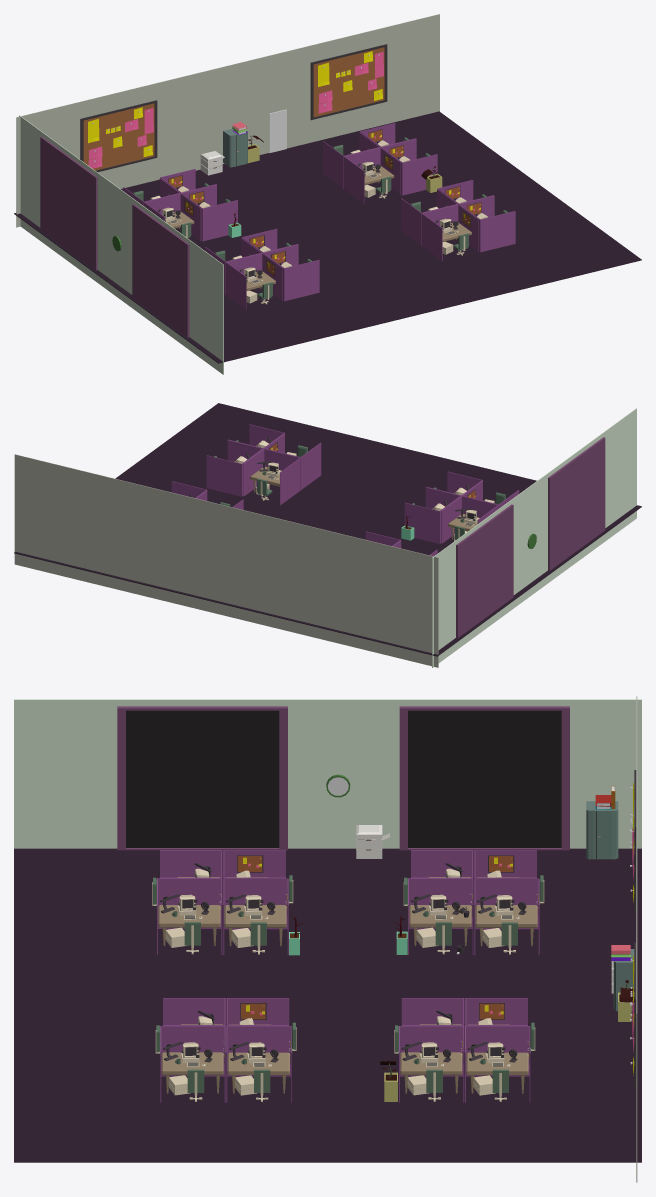
The model's file is EnvironmentTest2_ContextII.fbx.
The picture shows the model from 3 angles, top to bottom: view 1: azimuth 30°, elevation 25°; view 2: azimuth 150°, elevation 25°; view 3: azimuth 270°, elevation 25°; orthographic projection. The views are drawn at different scales.
Visible parts, largest first — view 1: Cube.030, Cube.026, Cube.025, Cube.027, Cube.029, Cubicle one object.018, Cubicle one object.016, Cubicle one object.008, Cubicle one object.014, Cubicle one object.004, Cubicle one object.012, Cubicle one object.010 (+11 smaller); view 2: Cube.026, Cube.030, Cube.025, Cube.029, Cube.027, Cubicle one object.020, Cubicle one object.013, Cubicle one object.011, Cubicle one object.009, Cubicle one object.014, Cubicle one object.012, Cubicle one object.010 (+1 smaller); view 3: Cube.030, Cube.025, Cube.027, Cube.029, Cubicle one object.015, Cubicle one object.011, Cubicle one object.012, Cubicle one object.010, Cubicle one object.013, Cubicle one object.007, Cubicle one object.006, Cubicle one object.003 (+12 smaller).
Part boxes in pixels (x1,y1,x2,y2): Cube.030: (14, 111, 641, 363); Cube.026: (16, 14, 439, 227); Cube.025: (19, 115, 223, 374); Cube.027: (132, 204, 189, 337); Cube.029: (40, 136, 97, 270); Cubicle one object.018: (310, 44, 387, 120); Cubicle one object.016: (80, 100, 157, 172); Cubicle one object.008: (225, 253, 282, 309); Cubicle one object.014: (421, 204, 478, 260); Cubicle one object.004: (344, 147, 400, 203); Cubicle one object.012: (459, 195, 515, 252); Cubicle one object.010: (263, 244, 319, 301); Cube.026: (14, 454, 438, 667); Cube.030: (14, 403, 641, 656); Cube.025: (432, 408, 636, 667); Cube.029: (456, 504, 513, 637); Cube.027: (548, 437, 605, 570); Cubicle one object.020: (243, 449, 300, 505); Cubicle one object.013: (206, 440, 262, 496); Cubicle one object.011: (404, 487, 460, 543); Cubicle one object.009: (441, 496, 498, 543); Cubicle one object.014: (264, 433, 321, 489); Cubicle one object.012: (228, 424, 284, 448); Cubicle one object.010: (426, 471, 482, 496); Cube.030: (14, 848, 641, 1162); Cube.025: (14, 699, 641, 848); Cube.027: (117, 706, 287, 850); Cube.029: (399, 706, 569, 850); Cubicle one object.015: (474, 878, 539, 955); Cubicle one object.011: (223, 878, 288, 955); Cubicle one object.012: (160, 1026, 225, 1102); Cubicle one object.010: (157, 878, 222, 955); Cubicle one object.013: (226, 1026, 291, 1103); Cubicle one object.007: (465, 1026, 530, 1102); Cubicle one object.006: (399, 1026, 464, 1102); Cubicle one object.003: (408, 878, 473, 955).
Size of the model in its own units: 881 by 218 by 735.
